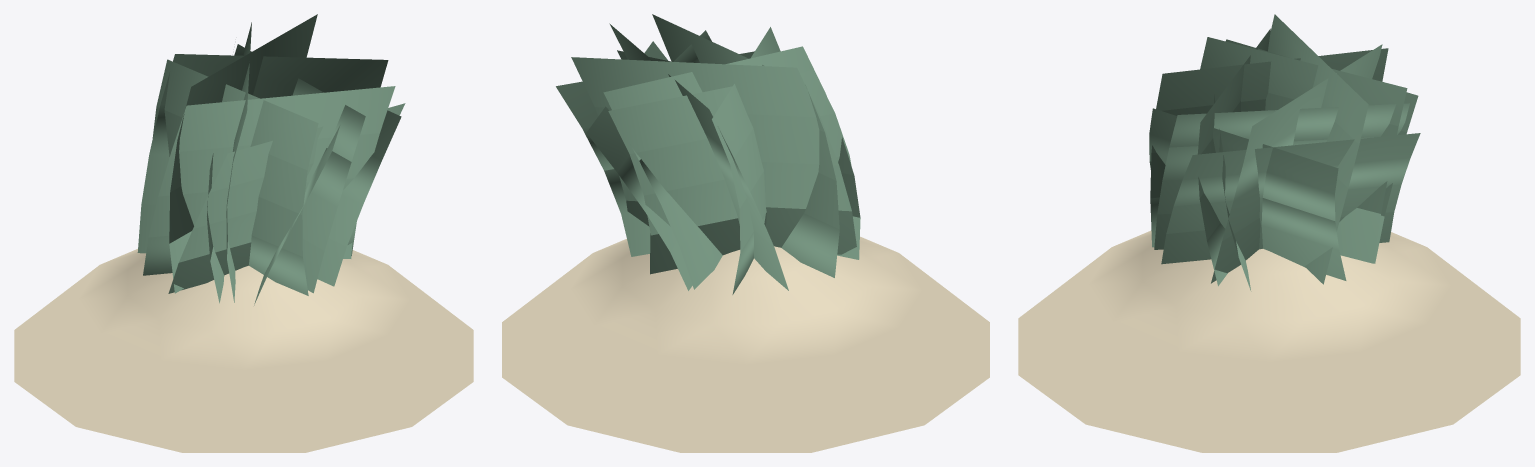
The model's file is beach_dunegrass_c.glb.
3 views of the same model, side by side, from view 1: azimuth 30°, elevation 25°; view 2: azimuth 150°, elevation 25°; view 3: azimuth 270°, elevation 25° (orthographic). The views are drawn at different scales.
Visible parts, largest first — view 1: beach_dunegrass_c_lod0; view 2: beach_dunegrass_c_lod0; view 3: beach_dunegrass_c_lod0.
Boxes of the visible parts, left/top/right/bottom form: beach_dunegrass_c_lod0: left=14, top=14, right=473, bottom=452; beach_dunegrass_c_lod0: left=502, top=14, right=989, bottom=452; beach_dunegrass_c_lod0: left=1018, top=14, right=1520, bottom=452.
Size of what is drawn, in the model's own units: 1.93 by 1.3 by 1.93.
